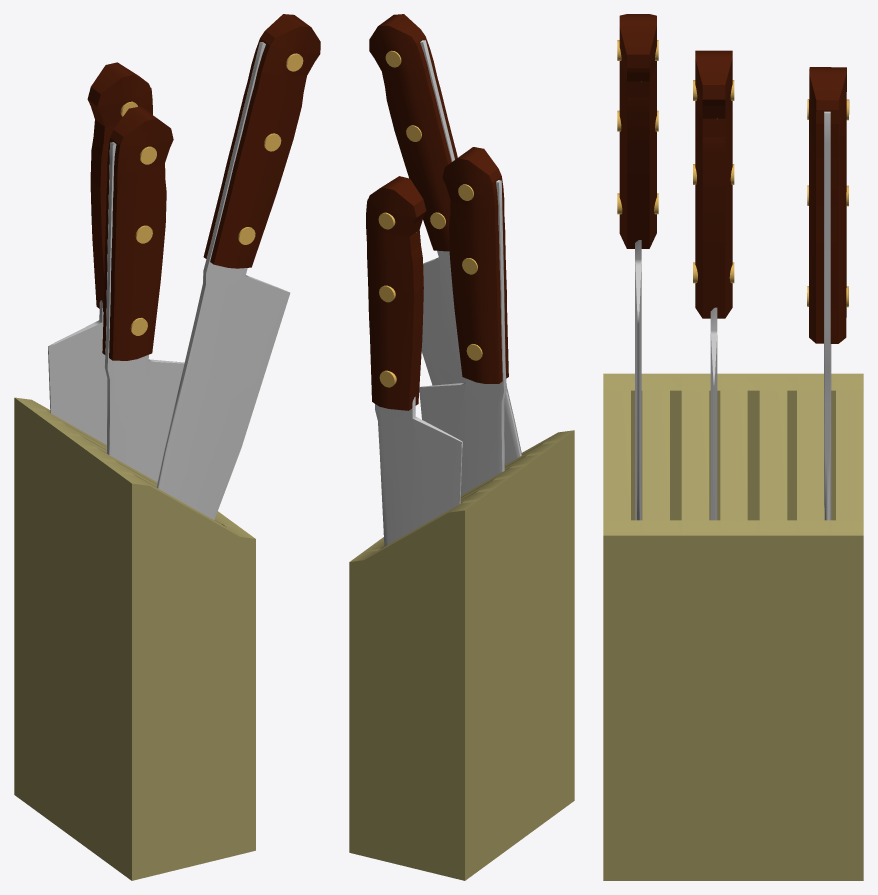
File: KnifeBlock.fbx
3 renders of one model, left to right at view 1: azimuth 30°, elevation 25°; view 2: azimuth 150°, elevation 25°; view 3: azimuth 270°, elevation 25°, orthographic. The views are drawn at different scales.
Visible parts, largest first — view 1: pCube8; view 2: pCube8; view 3: pCube8.
Boxes of the visible parts, box(x1,y1,x2,y2) form: pCube8: box(14, 14, 320, 880); pCube8: box(349, 14, 574, 880); pCube8: box(603, 14, 863, 880).
Size of the model in its own units: 16.65 by 64.36 by 17.
